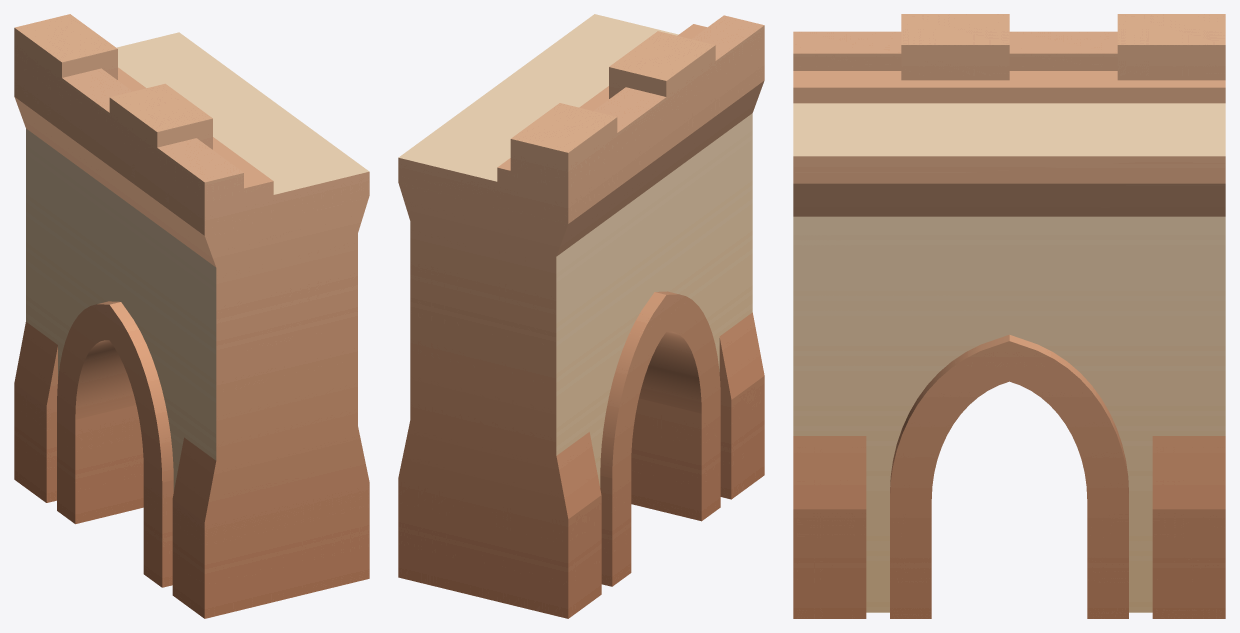
File: wall-doorway.glb
3 renders of one model, left to right at view 1: azimuth 30°, elevation 25°; view 2: azimuth 150°, elevation 25°; view 3: azimuth 270°, elevation 25°, orthographic. The views are drawn at different scales.
Visible parts, largest first — view 1: wall-doorway; view 2: wall-doorway; view 3: wall-doorway.
Boxes of the visible parts, x1=… form: wall-doorway: x1=14, y1=14, x2=369, y2=618; wall-doorway: x1=398, y1=14, x2=764, y2=618; wall-doorway: x1=793, y1=14, x2=1225, y2=618.
Bounding box in the file's own units: 0.5 × 1.31 × 1.
1 material, 1 textured.
